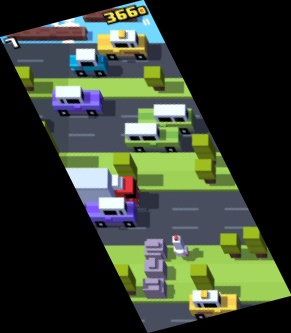car: (124, 122, 182, 154), (137, 104, 195, 135), (188, 290, 245, 321), (96, 29, 149, 62), (51, 86, 104, 118), (86, 197, 135, 229), (68, 48, 108, 78)
duck: (172, 234, 190, 258)
log: (6, 26, 89, 41), (83, 7, 140, 24)
rock: (143, 238, 168, 260), (143, 278, 167, 300), (143, 258, 168, 279)
tree: (34, 120, 61, 158), (109, 265, 138, 295), (242, 227, 268, 260), (112, 153, 139, 183), (191, 134, 217, 164), (190, 263, 214, 294), (10, 66, 34, 92), (193, 159, 216, 185), (219, 233, 241, 259), (144, 67, 166, 91)
truck: (52, 168, 137, 211)
water: (1, 1, 169, 44)
